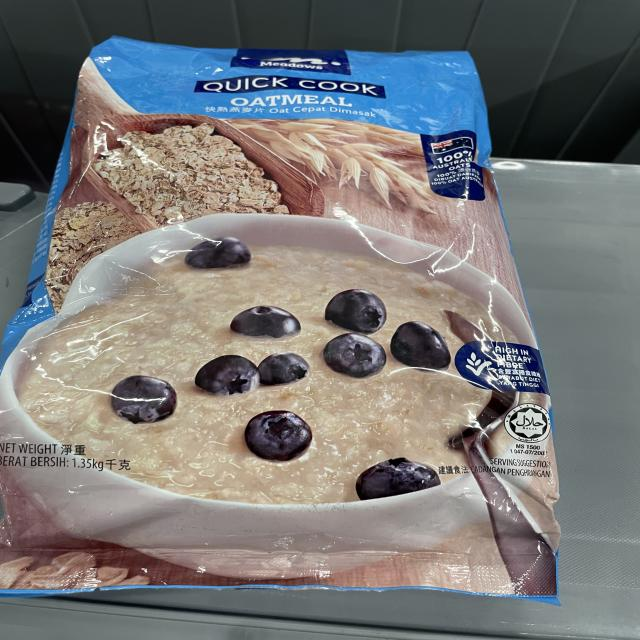object_name: (63, 37, 542, 605)
